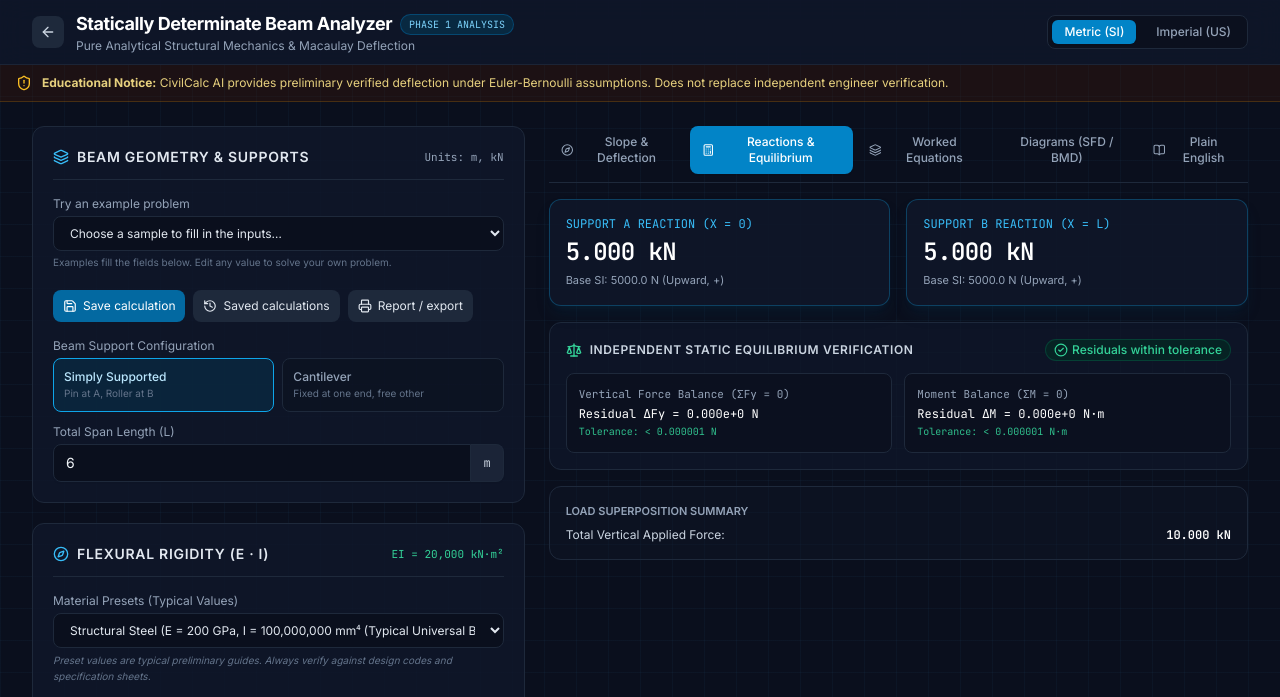
BeamWorkspace Component (Milestone 2 & 3) › switches to Worked Equations tab and displays governing equations
The width and height of the screenshot is (1280, 697).
Click the button "Worked Equations": (925,150) [857,126,993,174]
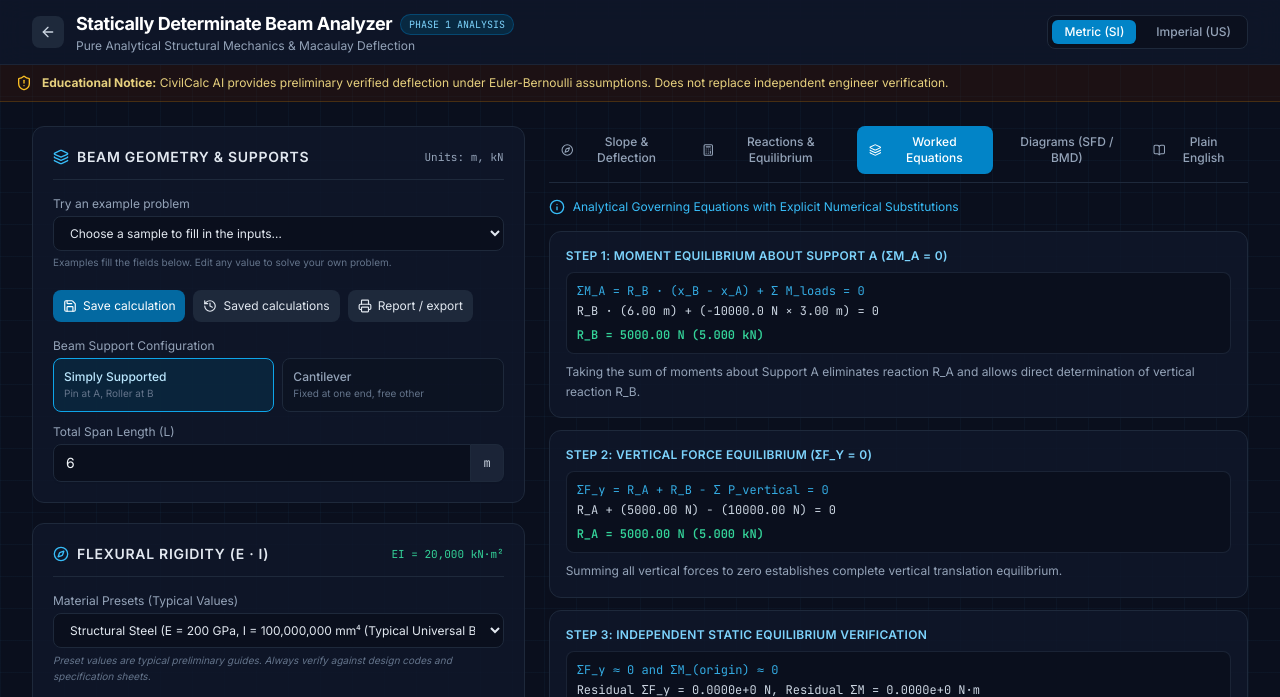
Expected: the heading "Step 1: Moment Equilibrium about Support A (ΣM_A = 0)" is shown, [566,248,948,263]
Expected: the heading "Step 2: Vertical Force Equilibrium (ΣF_y = 0)" is shown, [566,447,872,462]
